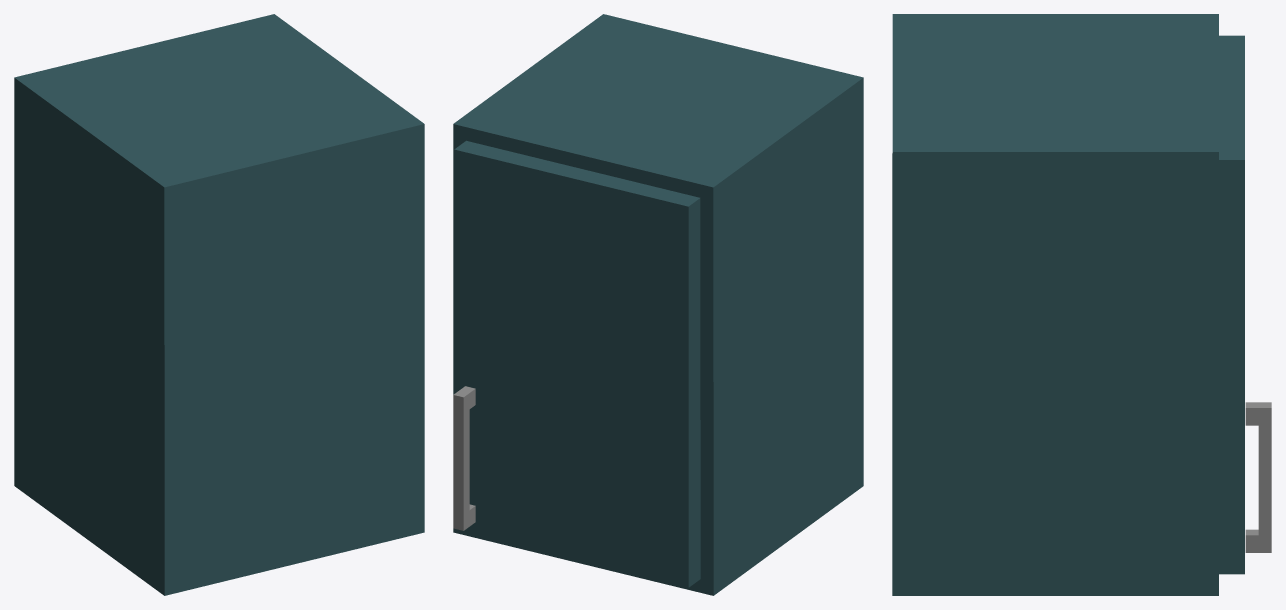
The model's file is TopCabinetRight.fbx.
The picture shows the model from 3 angles, left to right: view 1: azimuth 30°, elevation 25°; view 2: azimuth 150°, elevation 25°; view 3: azimuth 270°, elevation 25°; orthographic projection. The views are drawn at different scales.
Parts seen in each view (by area): view 1: Cabinet; view 2: Cabinet, Door; view 3: Cabinet, Door.
Boxes of the visible parts, x1,y1,x2,y2 form: Cabinet: (14,14,424,595); Cabinet: (453,14,863,595); Door: (453,140,700,587); Cabinet: (892,14,1218,595); Door: (1219,35,1271,574).
Bounding box in the file's own units: 50 × 75 × 58.07.
Materials: 1 (1 with a texture image).
